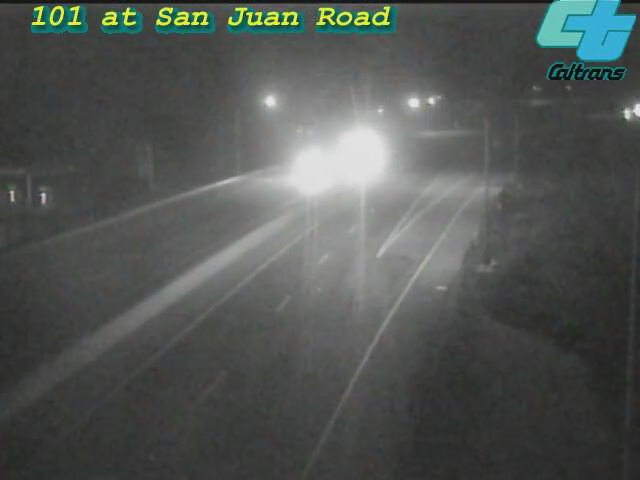vehicle: (265, 130, 345, 210), (314, 116, 394, 196), (607, 90, 640, 140)
